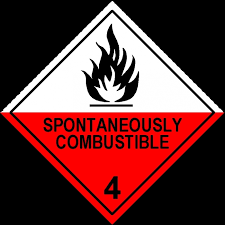SpontaneouslyCombustible: (1, 2, 223, 225)
